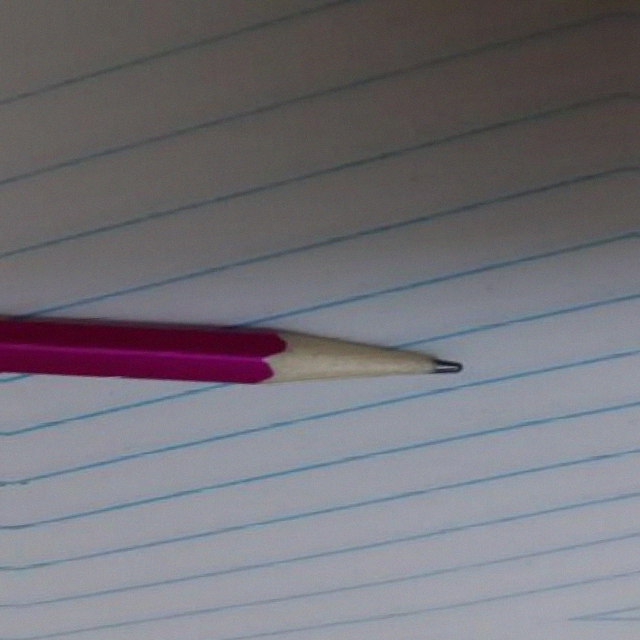pencil: (243, 325, 463, 403)
